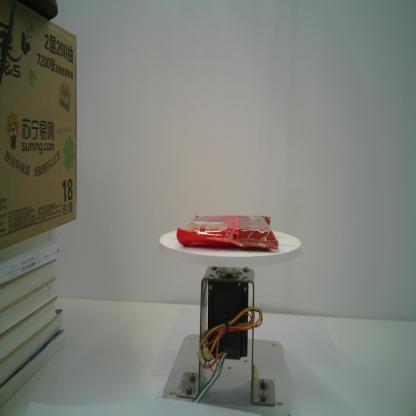Dessert: (176, 214, 278, 250)
